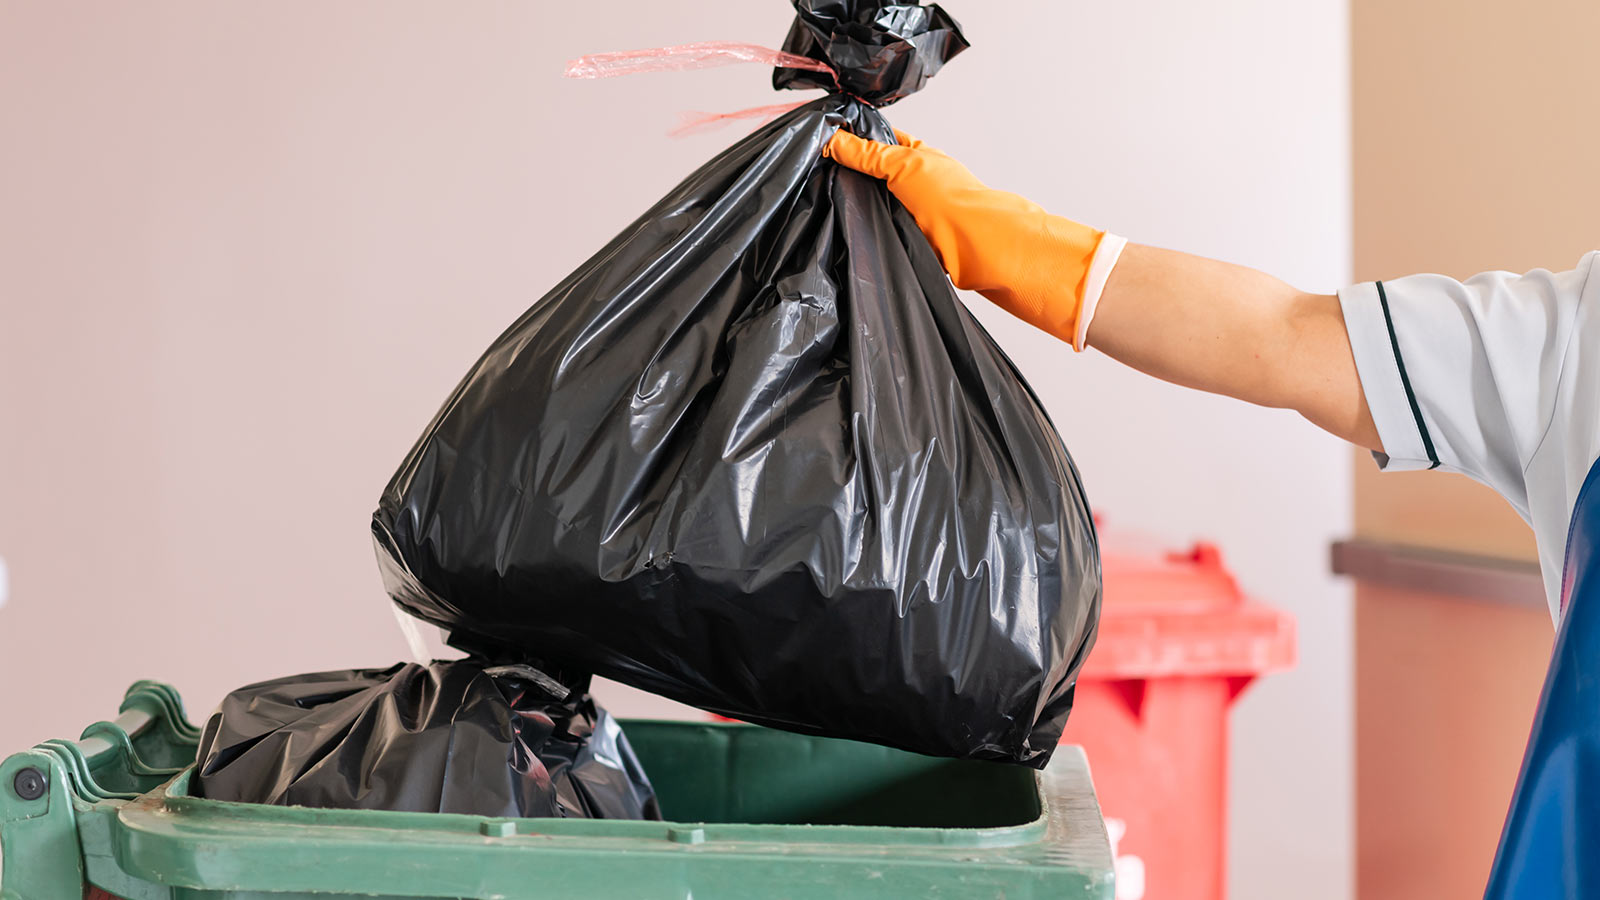plastic_bagwdw: (305, 5, 1154, 784)
